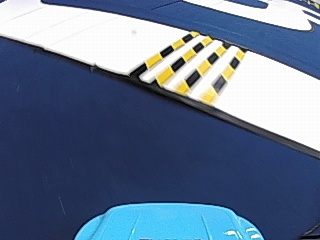bump: (130, 30, 246, 98)
